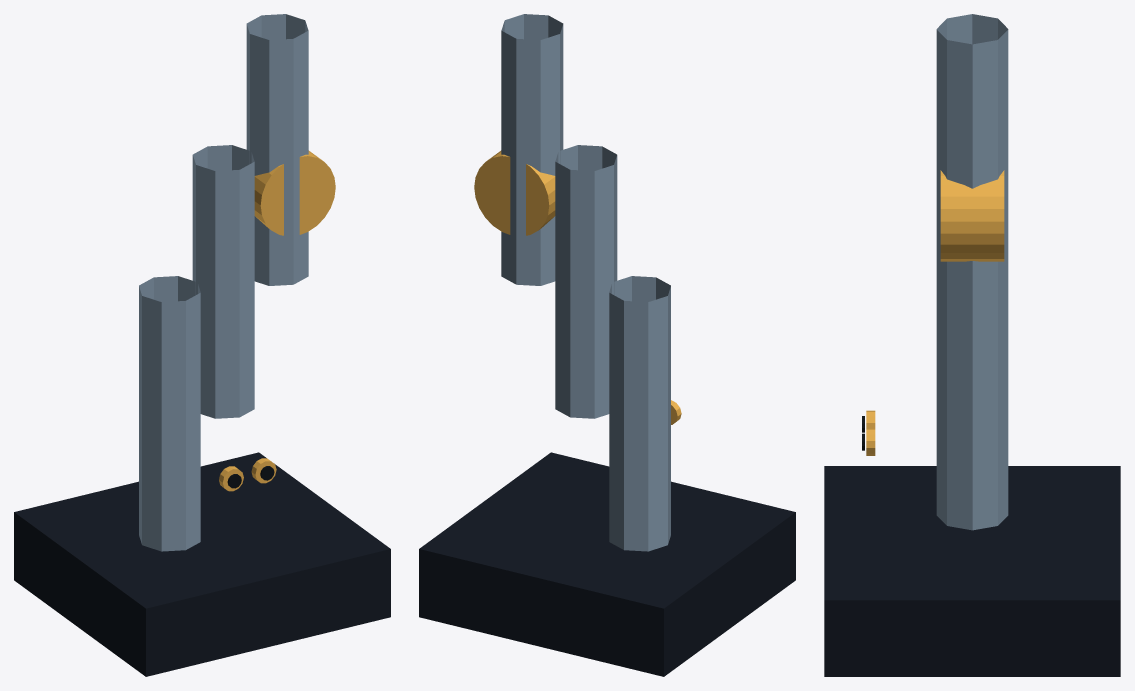
Rendered from 76_L92_SampleReturnTransferArm.fbx.
The picture shows the model from 3 angles, left to right: view 1: azimuth 30°, elevation 25°; view 2: azimuth 150°, elevation 25°; view 3: azimuth 270°, elevation 25°; orthographic projection. The views are drawn at different scales.
Parts seen in each view (by area): view 1: L92_SampleReturnTransferArm, L92_SampleReturnTransferArm_Part_0001, L92_SampleReturnTransferArm_Part_0002; view 2: L92_SampleReturnTransferArm, L92_SampleReturnTransferArm_Part_0001, L92_SampleReturnTransferArm_Part_0002; view 3: L92_SampleReturnTransferArm, L92_SampleReturnTransferArm_Part_0001, L92_SampleReturnTransferArm_Part_0002.
Part boxes in pixels (<box>): L92_SampleReturnTransferArm: <box>14,452,390,676</box>; L92_SampleReturnTransferArm_Part_0001: <box>139,14,308,551</box>; L92_SampleReturnTransferArm_Part_0002: <box>254,150,335,235</box>; L92_SampleReturnTransferArm: <box>419,452,795,676</box>; L92_SampleReturnTransferArm_Part_0001: <box>501,14,670,551</box>; L92_SampleReturnTransferArm_Part_0002: <box>474,150,555,235</box>; L92_SampleReturnTransferArm: <box>824,466,1120,676</box>; L92_SampleReturnTransferArm_Part_0001: <box>936,14,1008,530</box>; L92_SampleReturnTransferArm_Part_0002: <box>940,170,1004,261</box>.
Size of the model in its own units: 150 by 324 by 140.
